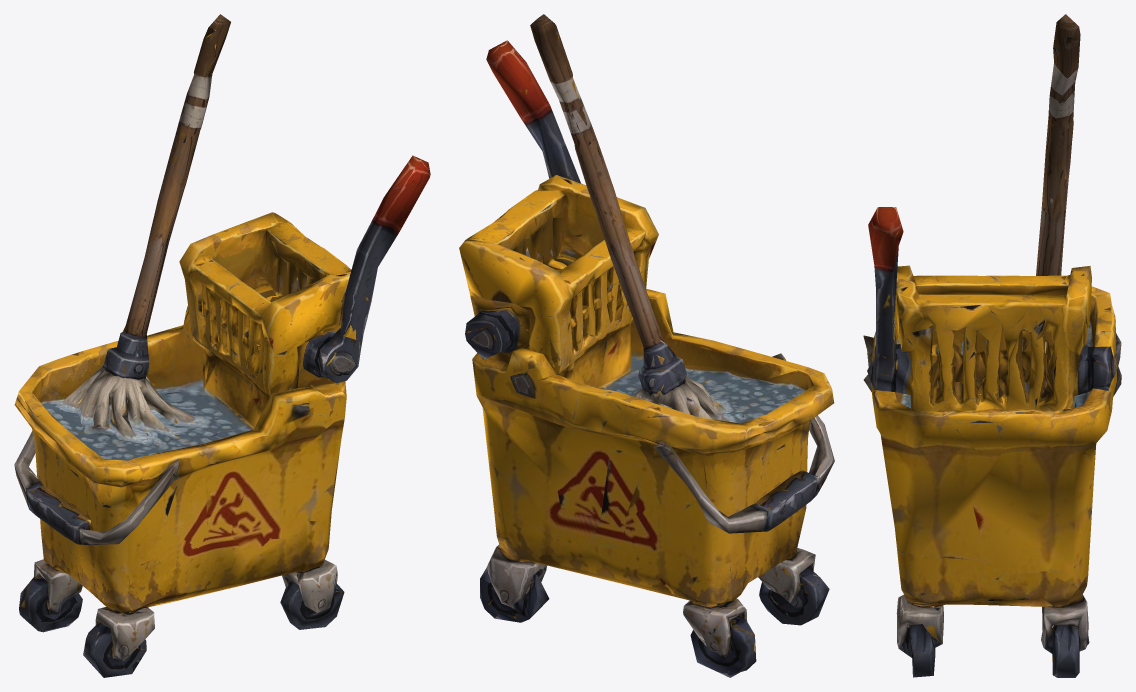
Rendered from d_mop_bucket.glb.
3 renders of one model, left to right at view 1: azimuth 30°, elevation 25°; view 2: azimuth 150°, elevation 25°; view 3: azimuth 270°, elevation 25°, orthographic. The views are drawn at different scales.
Size of the model in its own units: 1.16 by 1.9 by 0.6907.
Materials: 1 (1 with a texture image).
